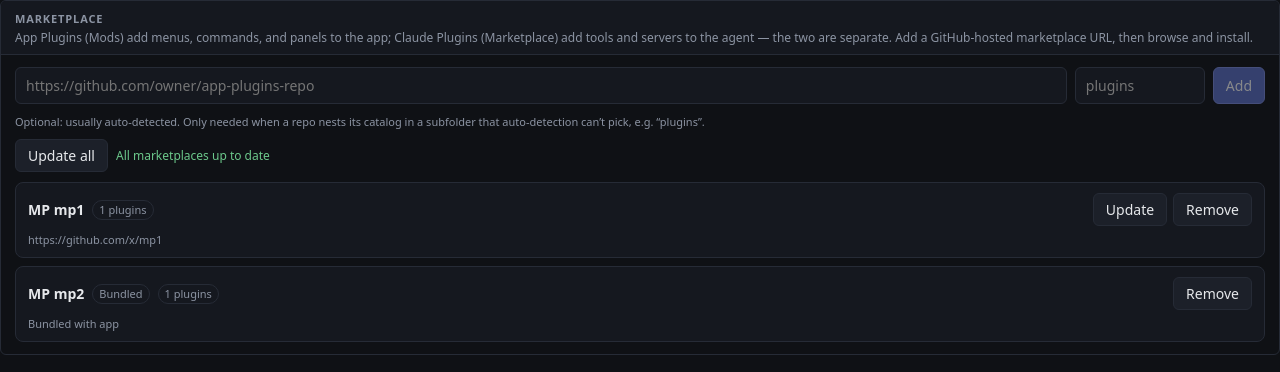
Test: AppPluginMarketplaceSection row Update control › still reconciles installed plugins when nothing is behind upstream
Click the button "Update all": [62, 156] box top-left (15, 139), bottom-right (108, 172)
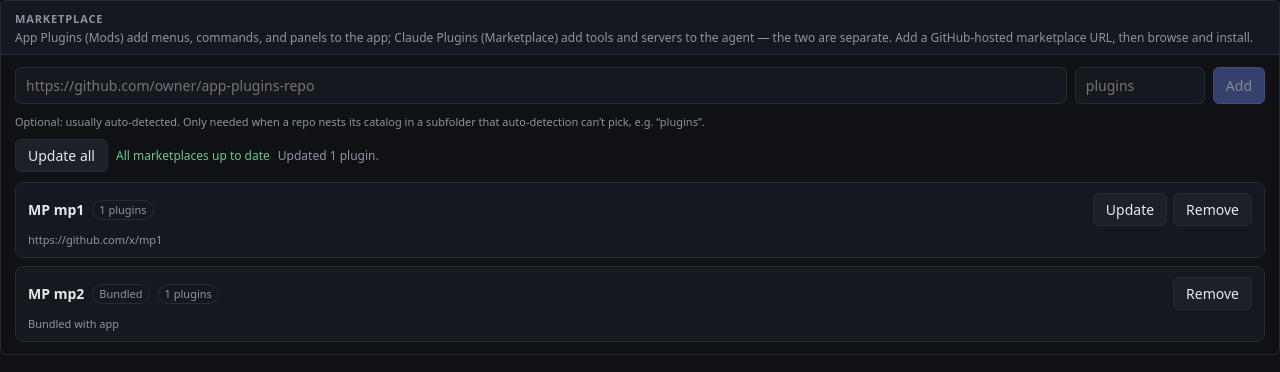
Now the text "Updated 1 plugin." is shown, box top-left (278, 147), bottom-right (379, 164)
